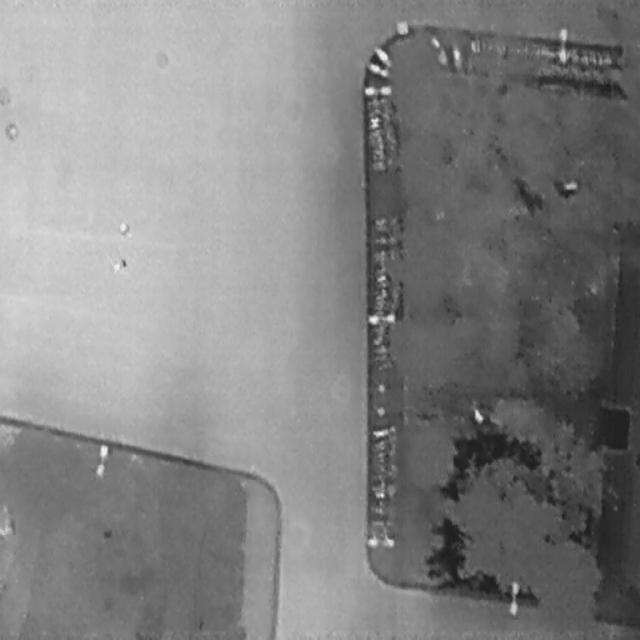Bicycle: (369, 39, 395, 69), (364, 60, 391, 79), (364, 82, 390, 94)
